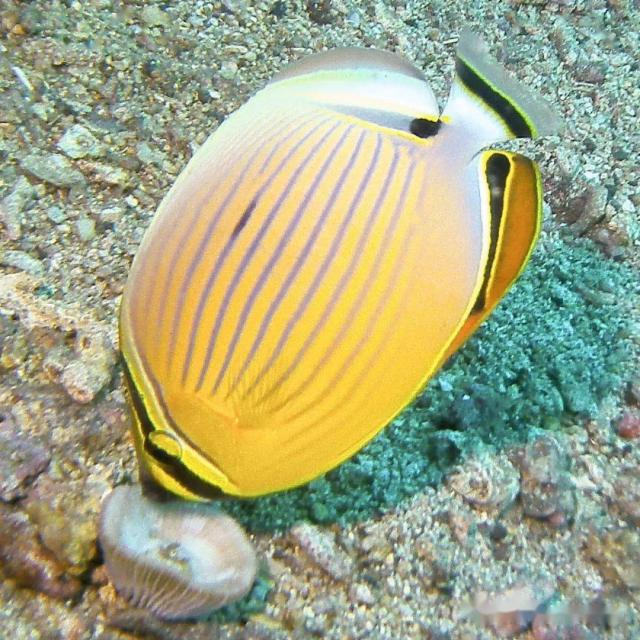ButterflyFish: (118, 27, 555, 507)
